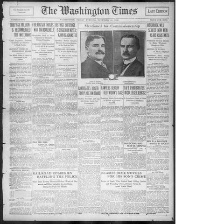news_paper: (0, 0, 175, 222)
